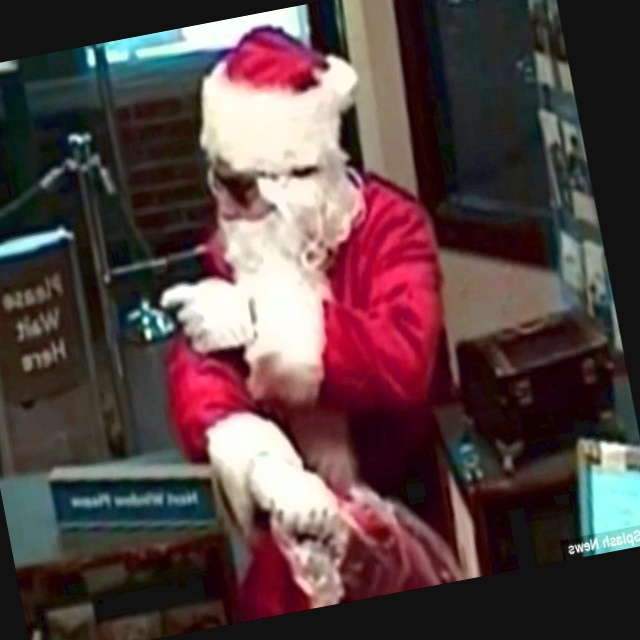gun: (90, 233, 238, 377)
